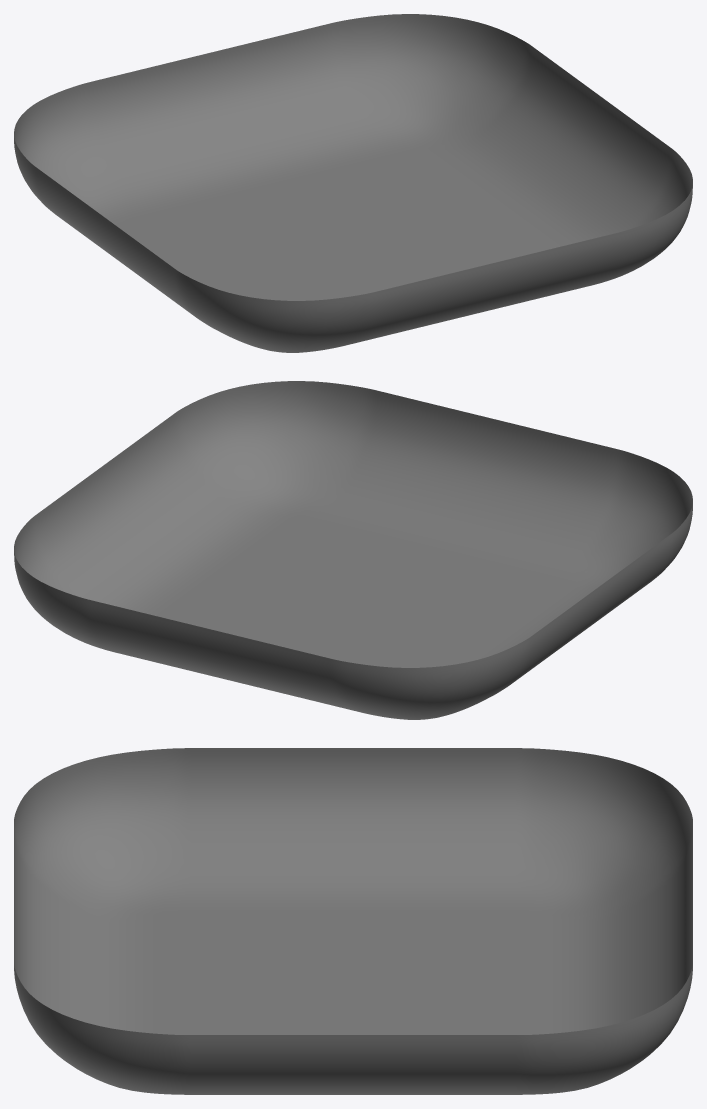
The model's file is SM_LightRoom.fbx.
3 renders of one model, top to bottom at view 1: azimuth 30°, elevation 25°; view 2: azimuth 150°, elevation 25°; view 3: azimuth 270°, elevation 25°, orthographic. The views are drawn at different scales.
Parts seen in each view (by area): view 1: SM_LightRoom; view 2: SM_LightRoom; view 3: SM_LightRoom.
Boxes of the visible parts, left/top/right/bottom form: SM_LightRoom: left=14, top=14, right=692, bottom=352; SM_LightRoom: left=14, top=381, right=692, bottom=719; SM_LightRoom: left=14, top=748, right=692, bottom=1094.
Size of the model in its own units: 66234 by 66234 by 11072.
